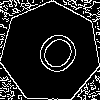O: (25, 27, 85, 87)
